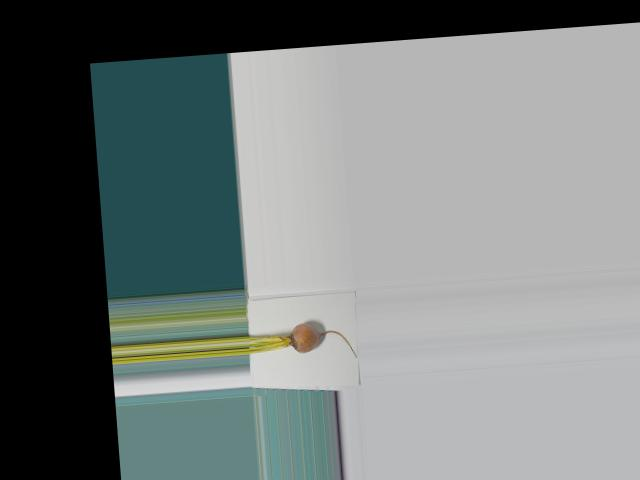beet: (247, 319, 356, 364)
